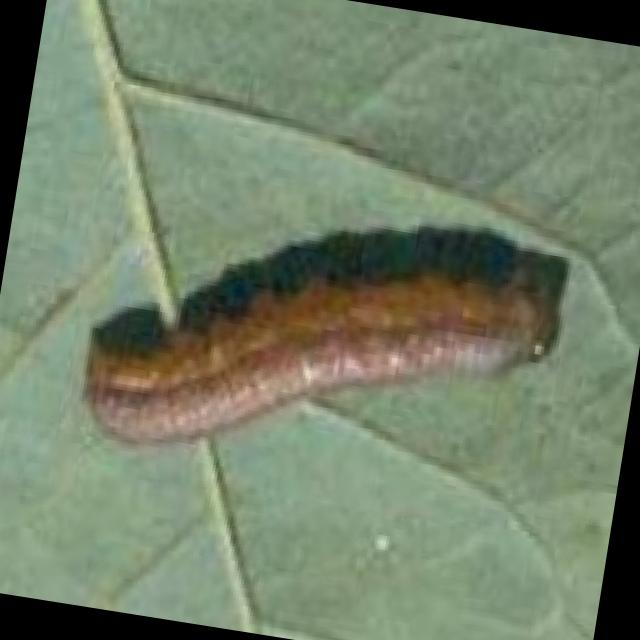armyworm: (55, 165, 594, 528)
